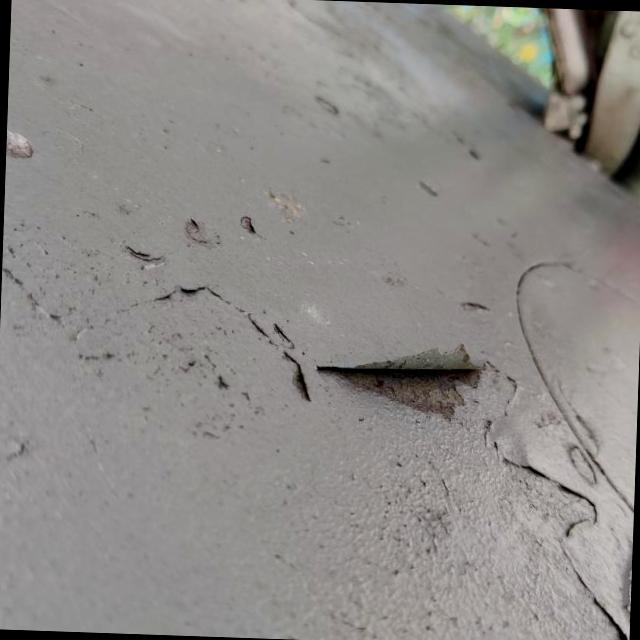paint-off: (302, 302, 503, 454)
